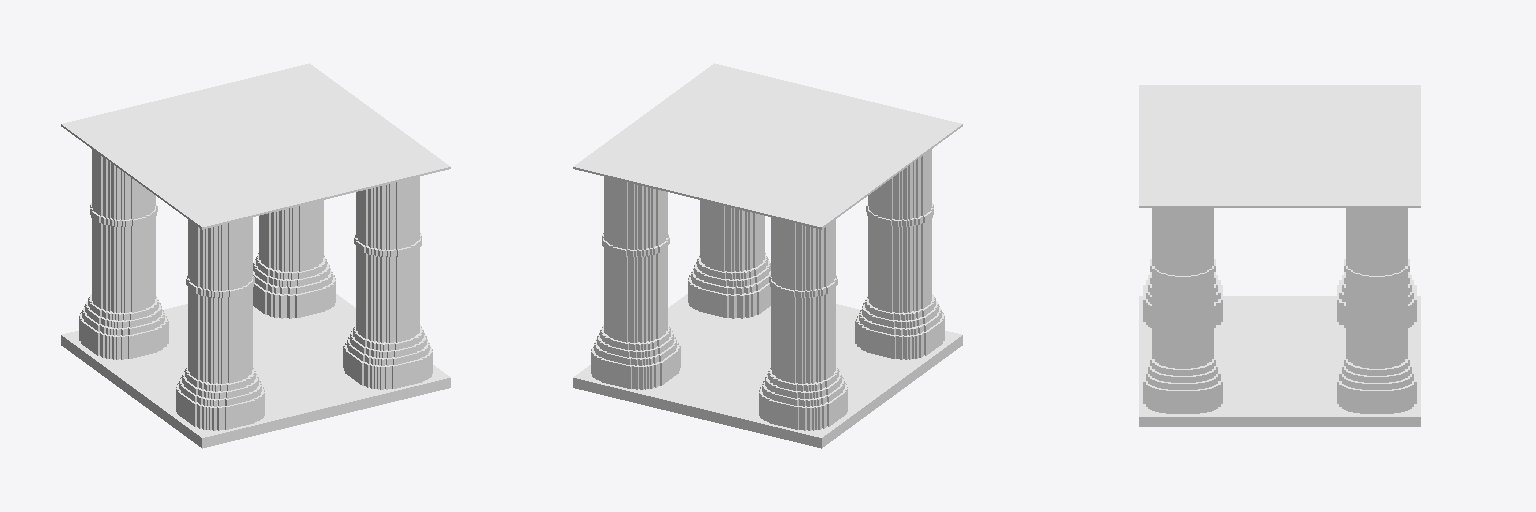
The model's file is Roomish.obj.
The picture shows the model from 3 angles: view 1: azimuth 30°, elevation 25°; view 2: azimuth 150°, elevation 25°; view 3: azimuth 270°, elevation 25°; orthographic projection.
Size of the model in its own units: 126 by 107 by 124.